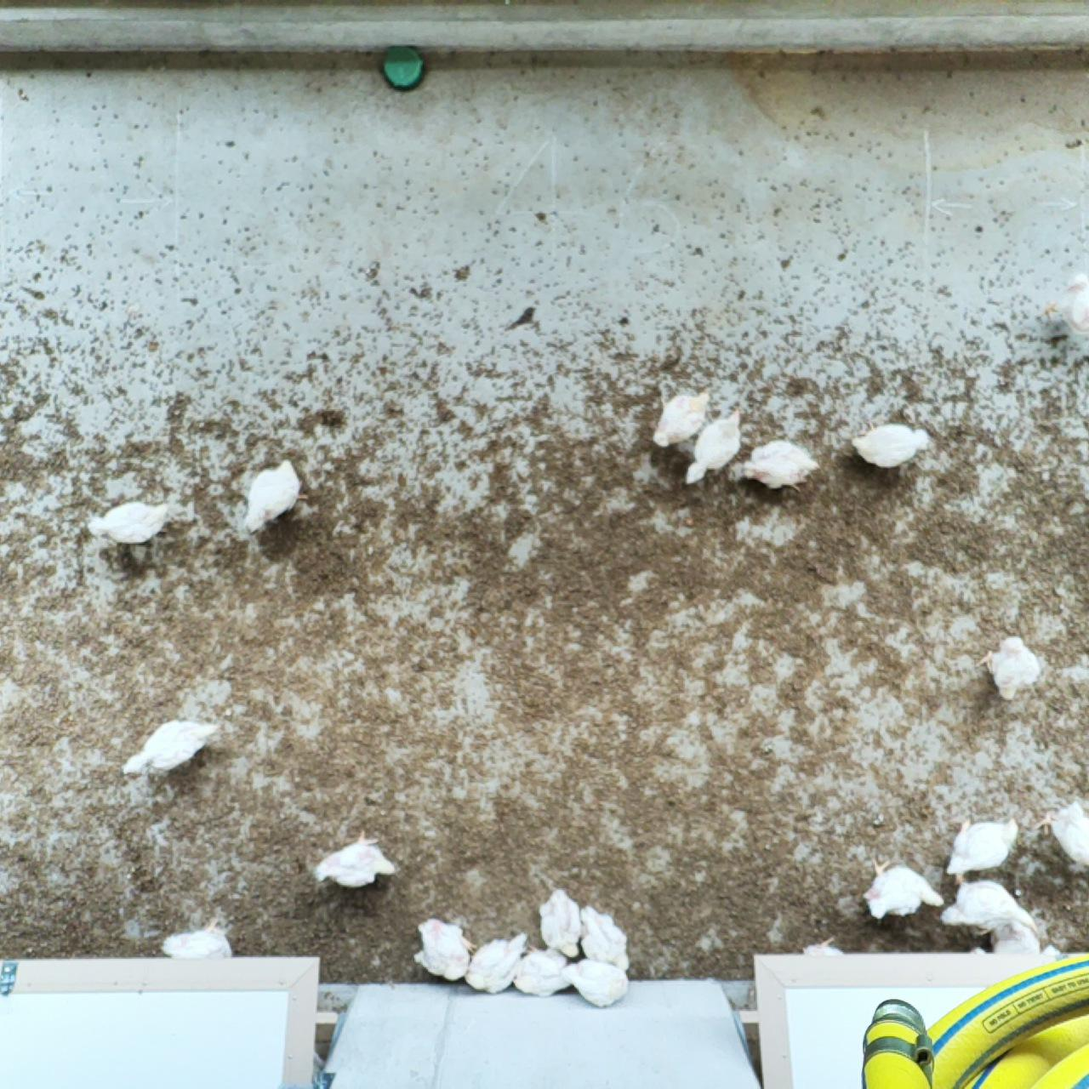chicken: (118, 717, 224, 783), (938, 878, 1043, 938), (942, 812, 1022, 888), (858, 854, 946, 922), (241, 456, 313, 538), (310, 829, 399, 894), (681, 406, 746, 487), (974, 631, 1043, 706), (739, 436, 822, 496), (411, 914, 480, 985), (463, 928, 533, 997), (848, 414, 931, 472), (87, 497, 175, 549), (1031, 794, 1089, 872), (554, 956, 631, 1011), (577, 901, 632, 976), (651, 389, 717, 450), (534, 886, 584, 963), (511, 942, 574, 1001), (158, 915, 237, 959), (985, 917, 1062, 959)
